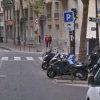Motorcycle: (36, 47, 92, 90)
